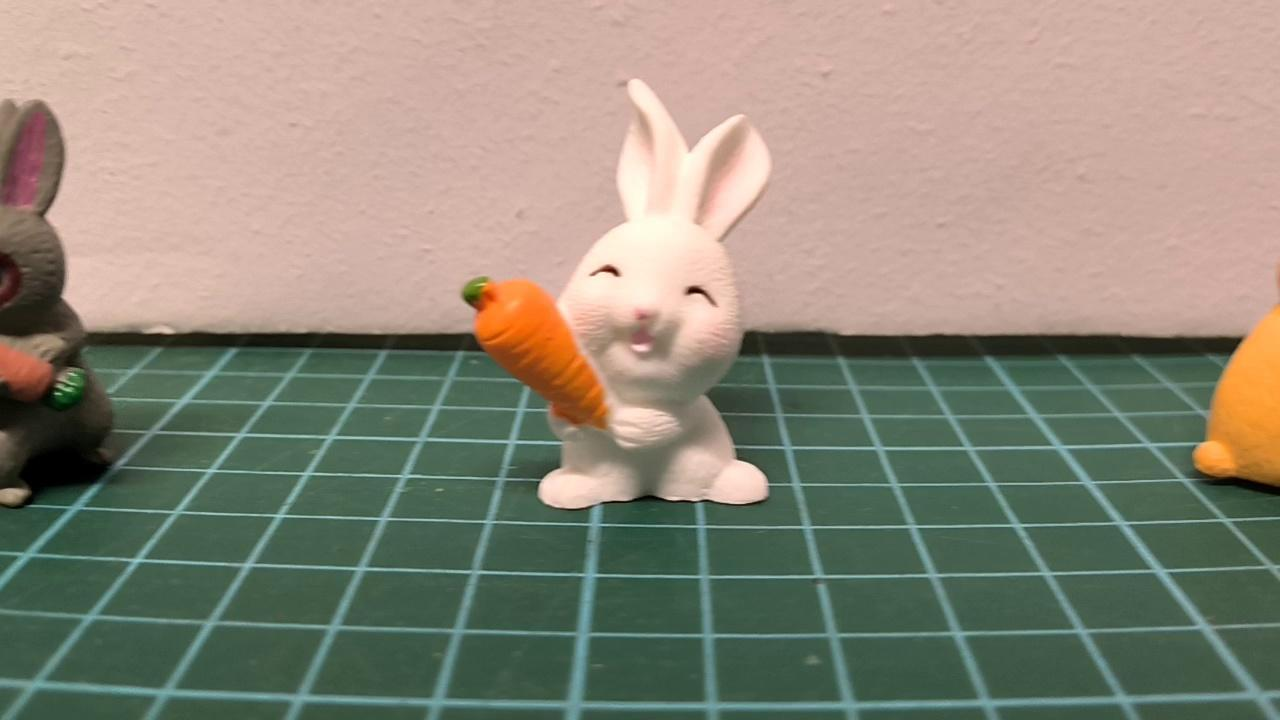pet: (533, 80, 771, 511), (0, 98, 116, 511), (1193, 261, 1280, 491)
